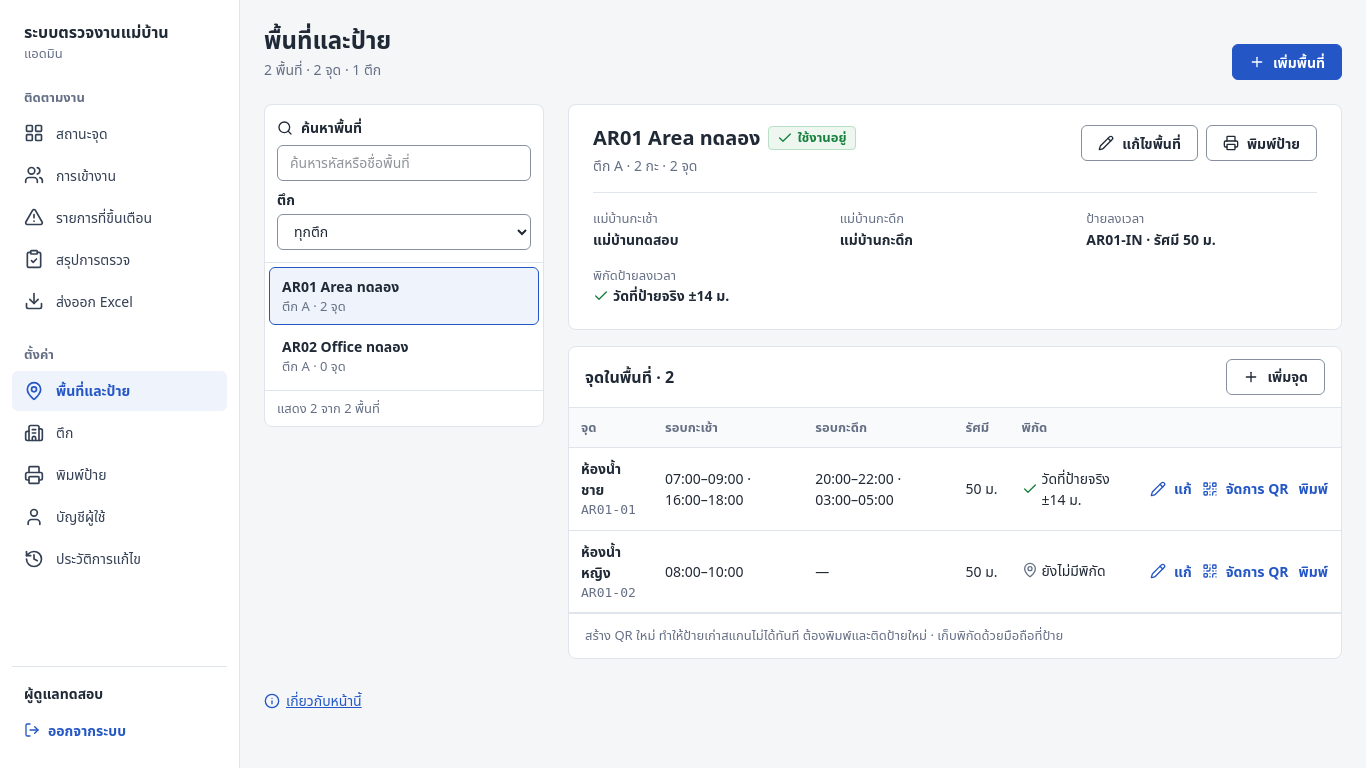
Test case: PointEditor (D4, facility-0045, 0047) › deactivates a point and can bring it back (no delete, facility-0021)
The image size is (1366, 768).
Click the button with aria-label "แก้ไข AR01-02".
click(1171, 571)  # box [1149, 553, 1193, 589]
(page scrolled)
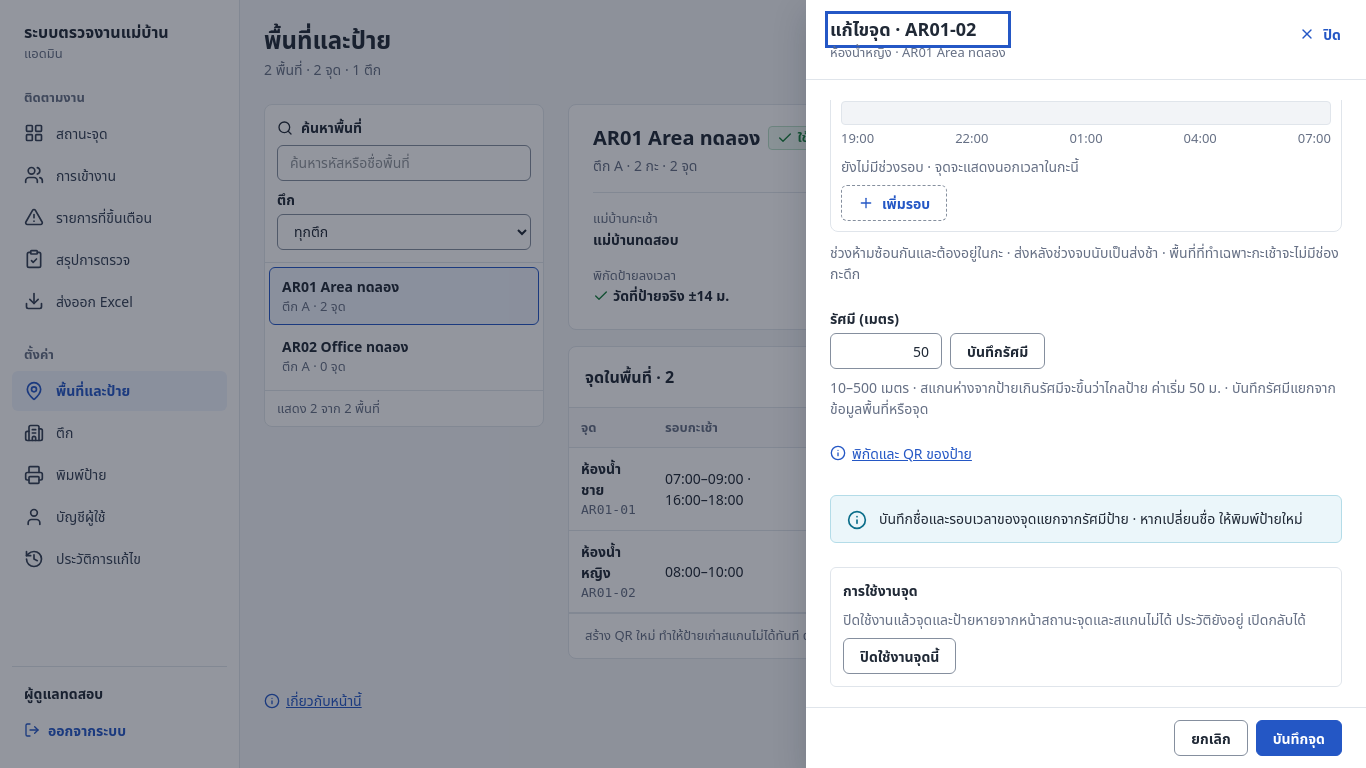
Click the button "ปิดใช้งานจุดนี้".
click(900, 656)  # box [843, 638, 956, 674]
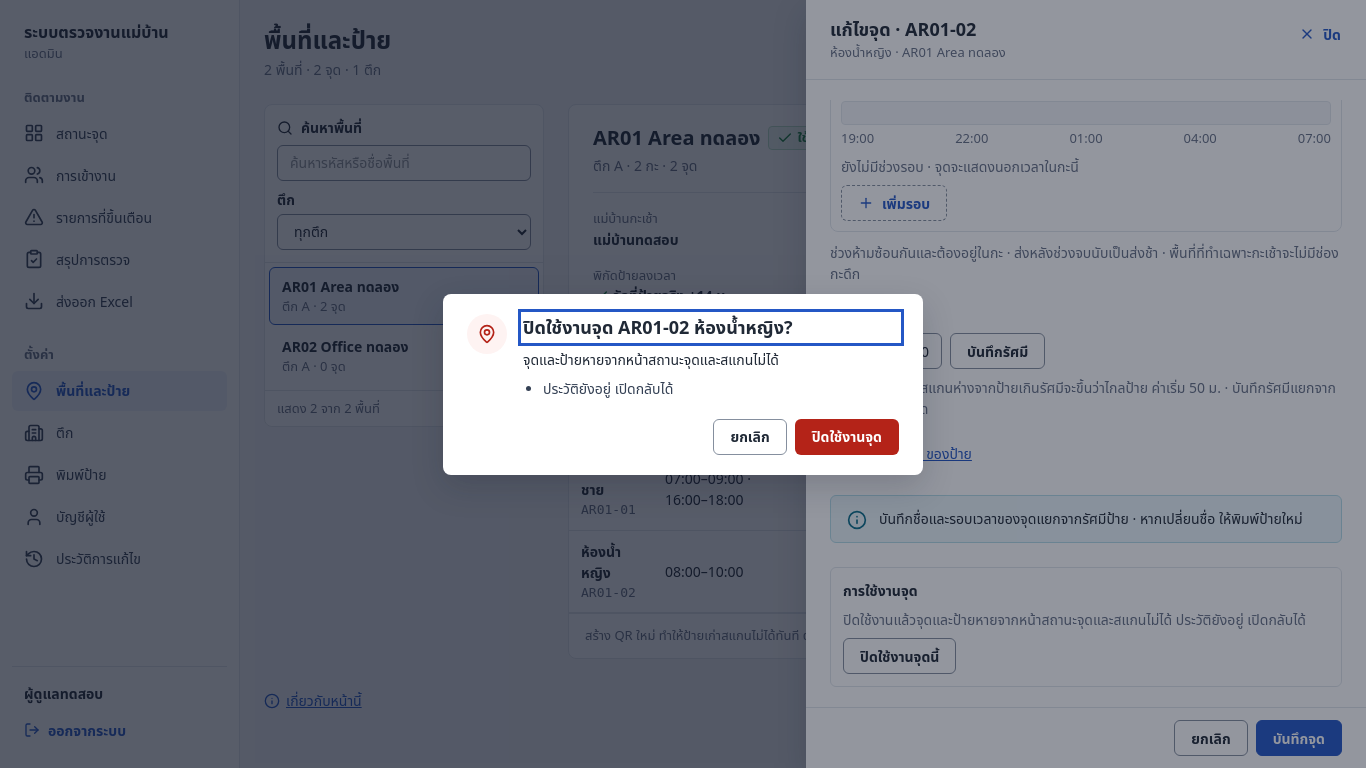
Click the button "ปิดใช้งานจุด".
click(847, 436)  # box [795, 418, 899, 454]
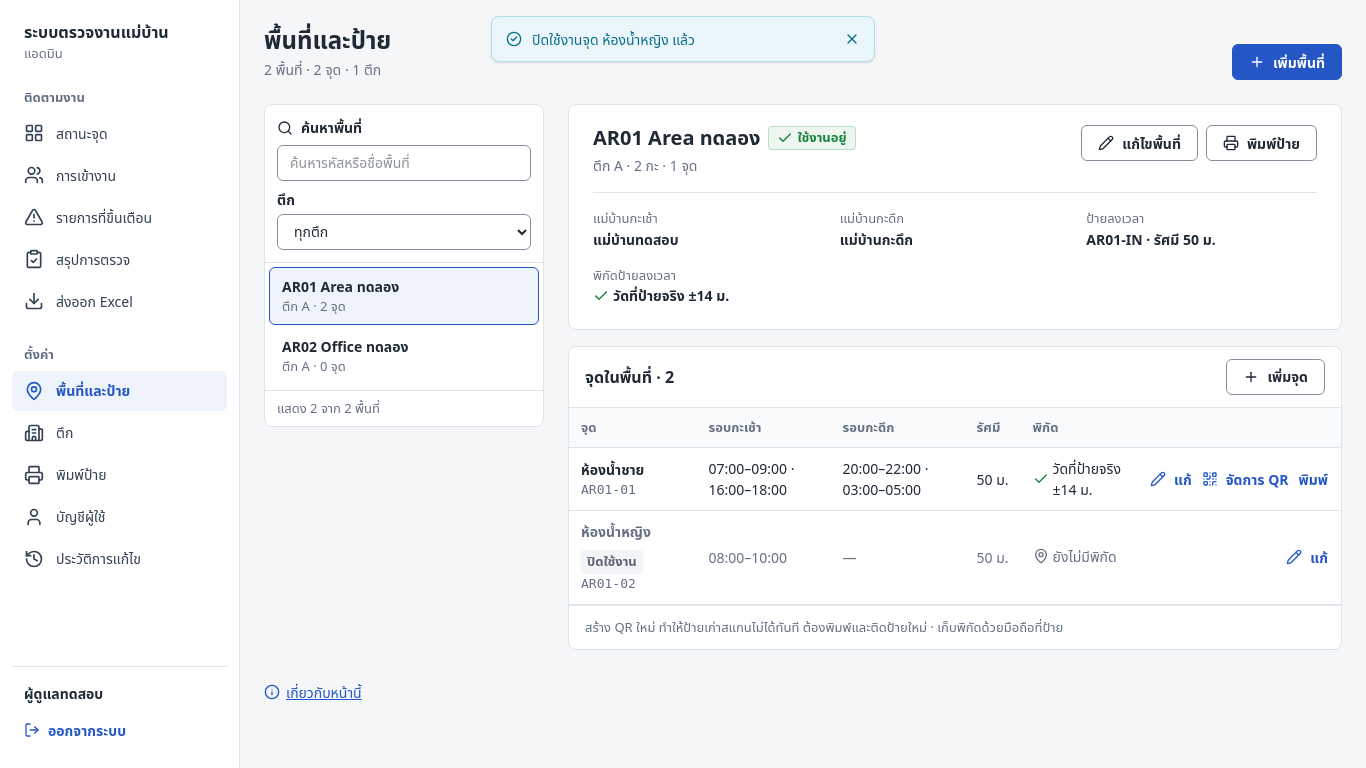
Check: the text "ปิดใช้งานจุด ห้องน้ำหญิง แล้ว" is shown, box [532, 30, 695, 48]
Check: the heading "แก้ไขจุด · AR01-02" is gone
Click the button with aria-label "แก้ไข AR01-02".
click(1307, 557)  # box [1285, 539, 1329, 575]
(page scrolled)
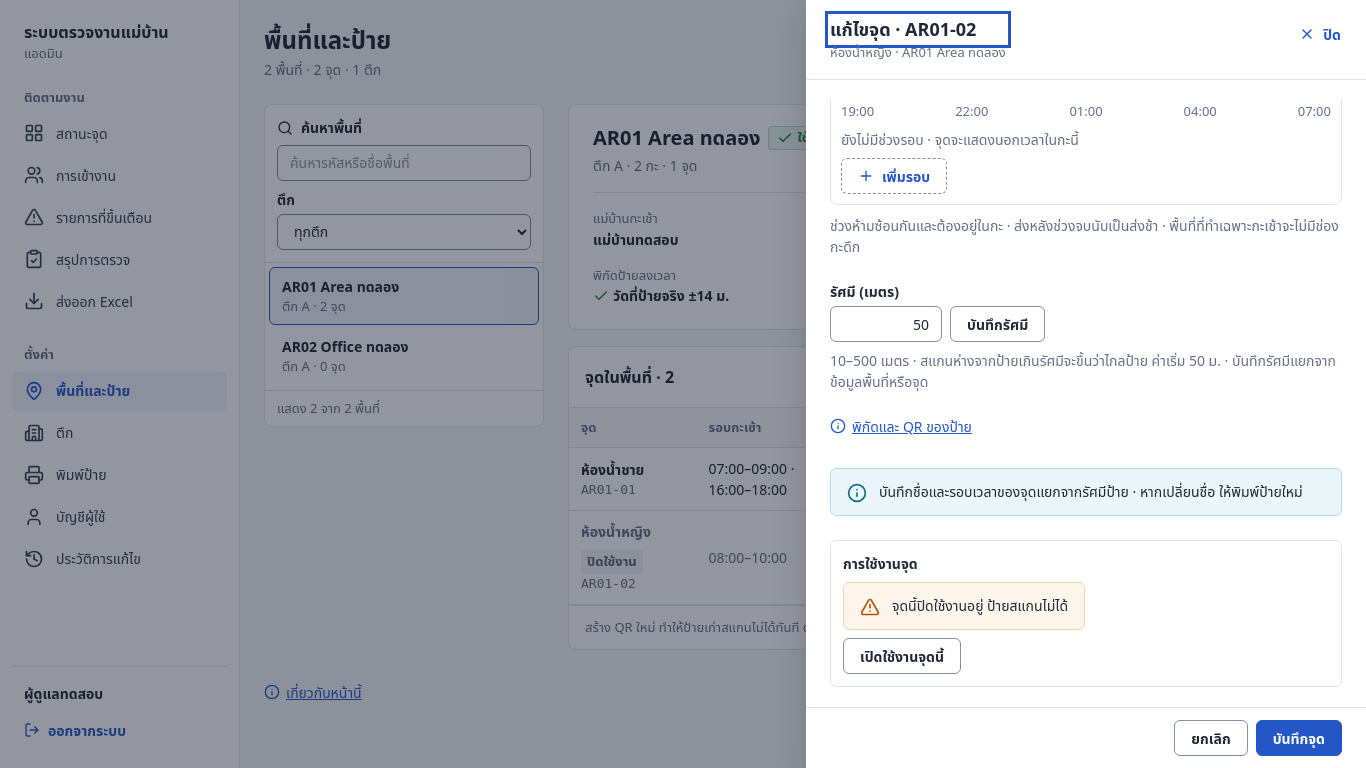
Check: the text "จุดนี้ปิดใช้งานอยู่ ป้ายสแกนไม่ได้" is shown, box [892, 595, 1068, 616]
Click the button "เปิดใช้งานจุดนี้".
click(902, 656)  # box [843, 638, 961, 674]
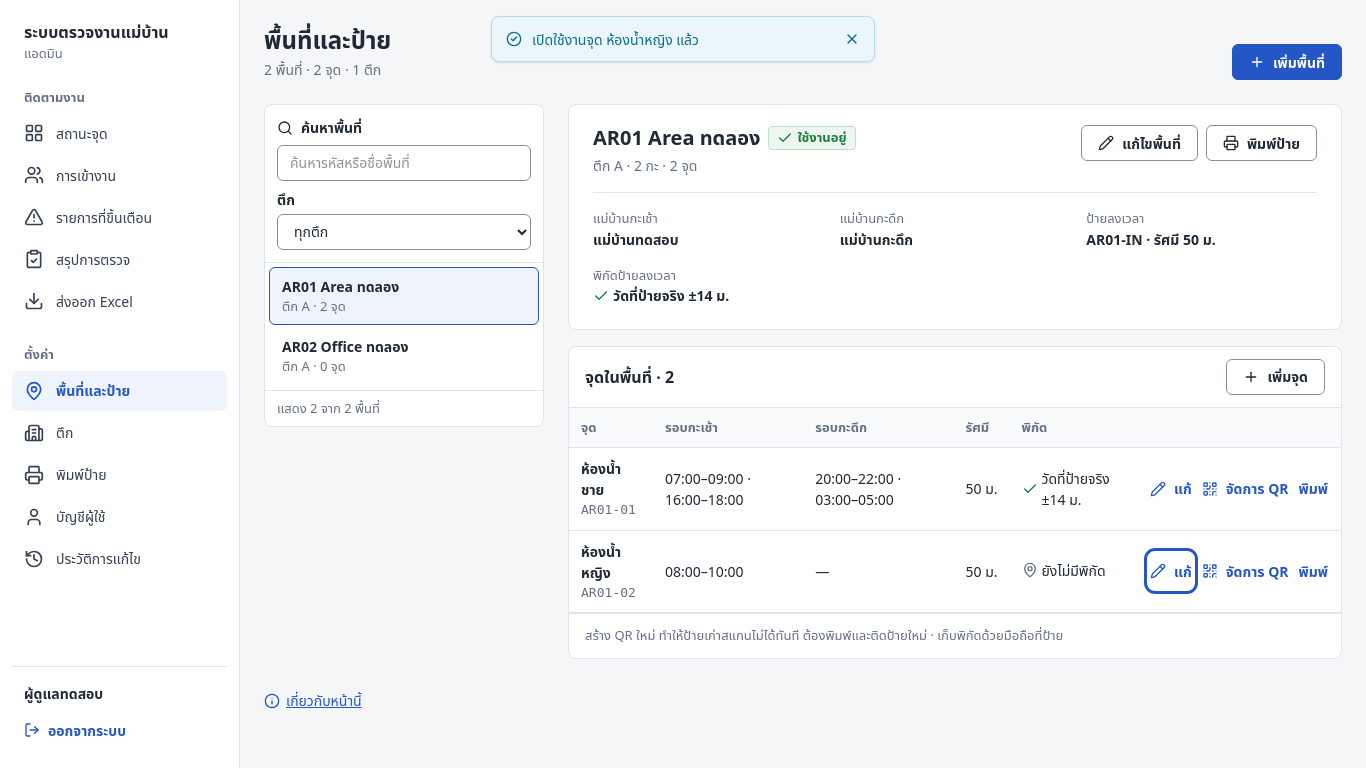
Check: the text "เปิดใช้งานจุด ห้องน้ำหญิง แล้ว" is shown, box [532, 30, 699, 48]
